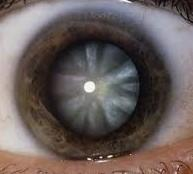eye: (15, 17, 173, 157)
